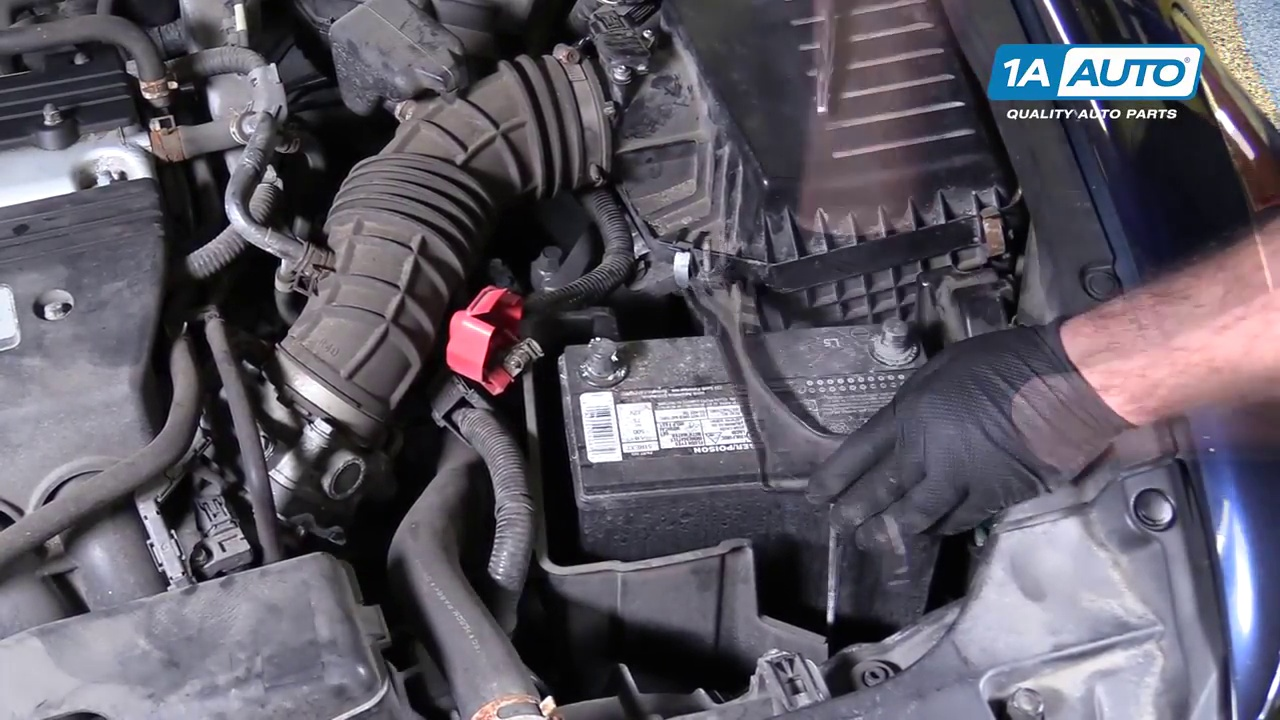battery: (559, 306, 943, 486)
neg_disconnected: (849, 305, 942, 376)
pos_disconnected: (436, 278, 650, 418)
